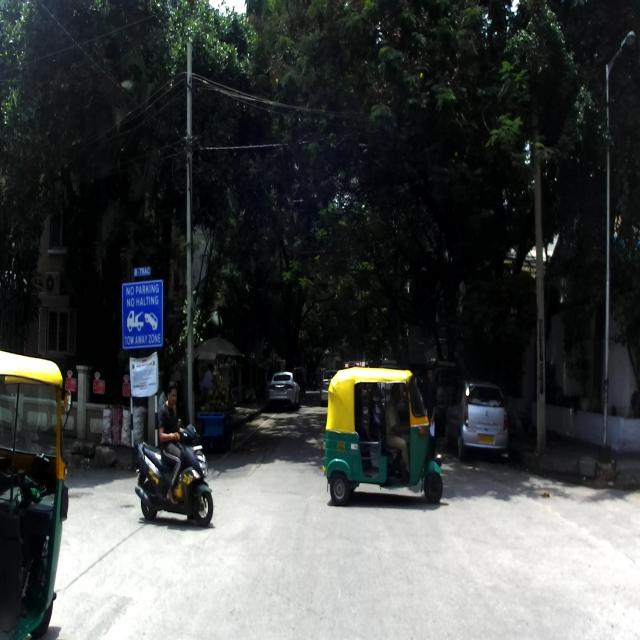Car_TATA: (445, 379, 510, 460)
autorickshaw: (0, 350, 71, 640), (322, 366, 441, 506)
scooter: (135, 422, 213, 527)
